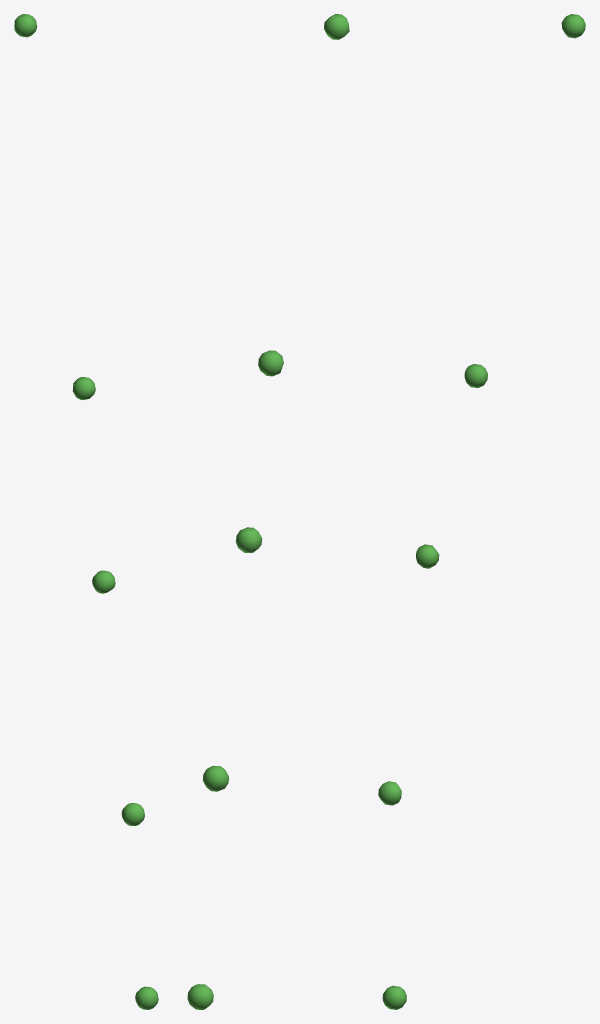
Rendered from linfatico-retro-aortic-nodes.glb.
The picture shows the model from 3 angles, left to right: view 1: azimuth 30°, elevation 25°; view 2: azimuth 210°, elevation 25°; view 3: azimuth 270°, elevation 25°; orthographic projection. The views are drawn at different scales.
Visible parts, largest first — view 1: Retro-aortic nodes; view 2: Retro-aortic nodes; view 3: Retro-aortic nodes.
Part boxes in pixels (bbox=[...]): Retro-aortic nodes: bbox=[14, 14, 158, 1009]; Retro-aortic nodes: bbox=[187, 14, 349, 1009]; Retro-aortic nodes: bbox=[378, 14, 585, 1009].
Size of the model in its own units: 0.00702 by 0.1129 by 0.0218.
